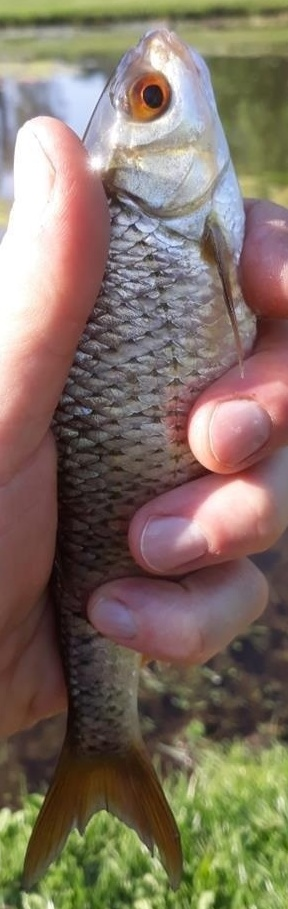Rutilus rutilus: (20, 20, 268, 889)
